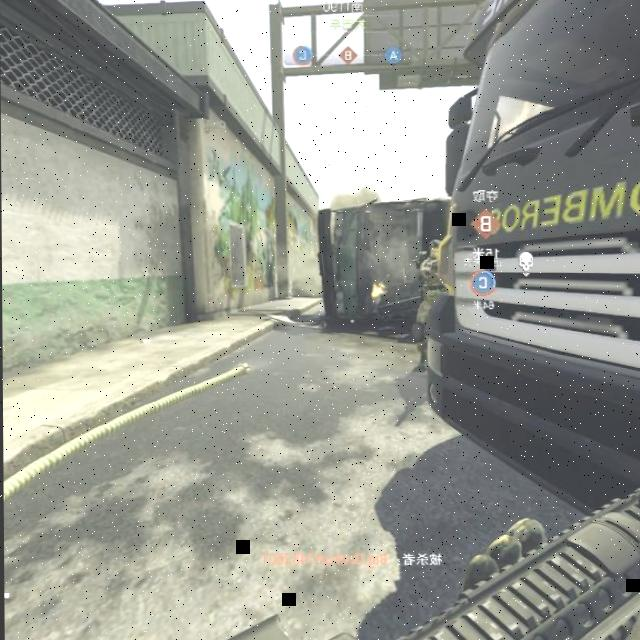MW2_body: (413, 239, 444, 375)
